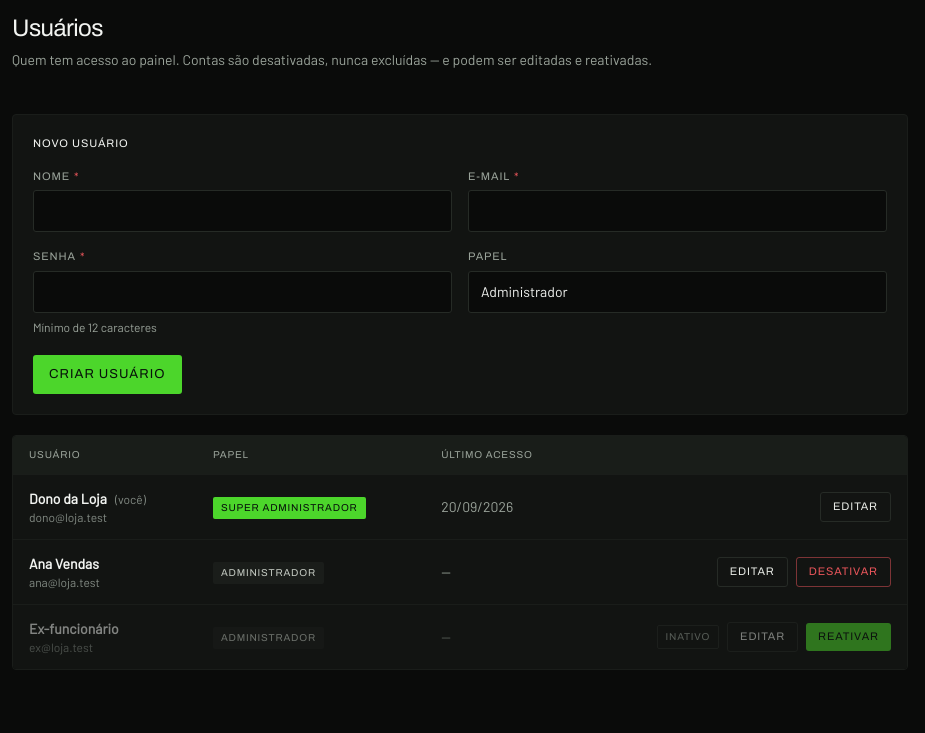
it: usuários › senha recusada pelo servidor: mostra a regra
The image size is (925, 733).
Check: the text "Dono da Loja" is shown, box [29,490,107,507]
Type "Bruno" into the field labelled "Nome*" at x=242, y=211, box [33,190,452,232]
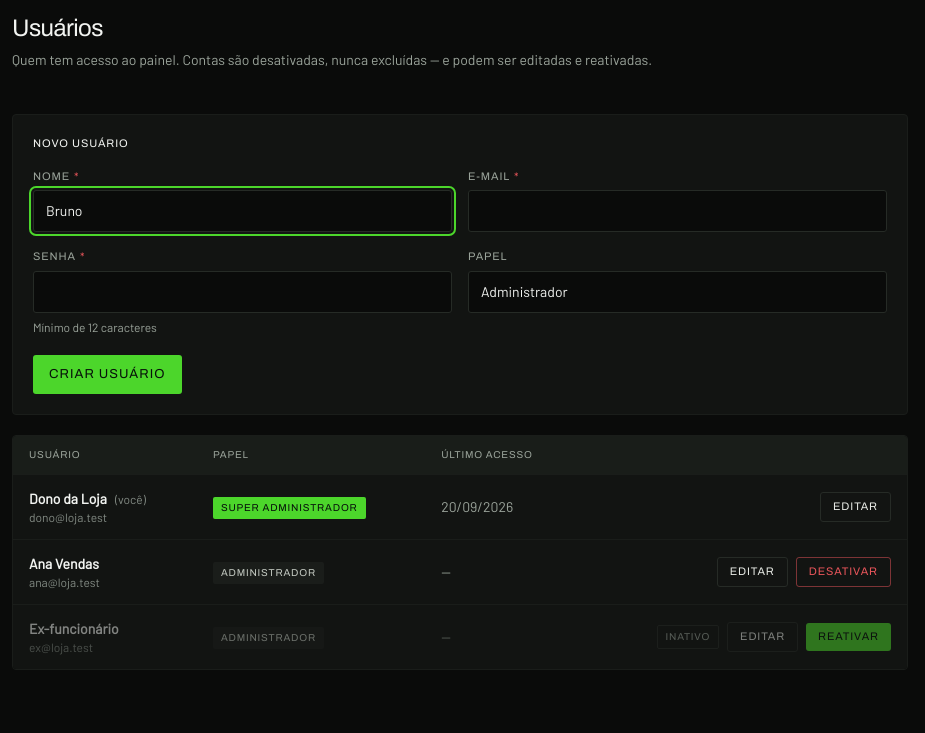
Click the button "Criar usuário" at x=107, y=374, box [33,354,182,394]
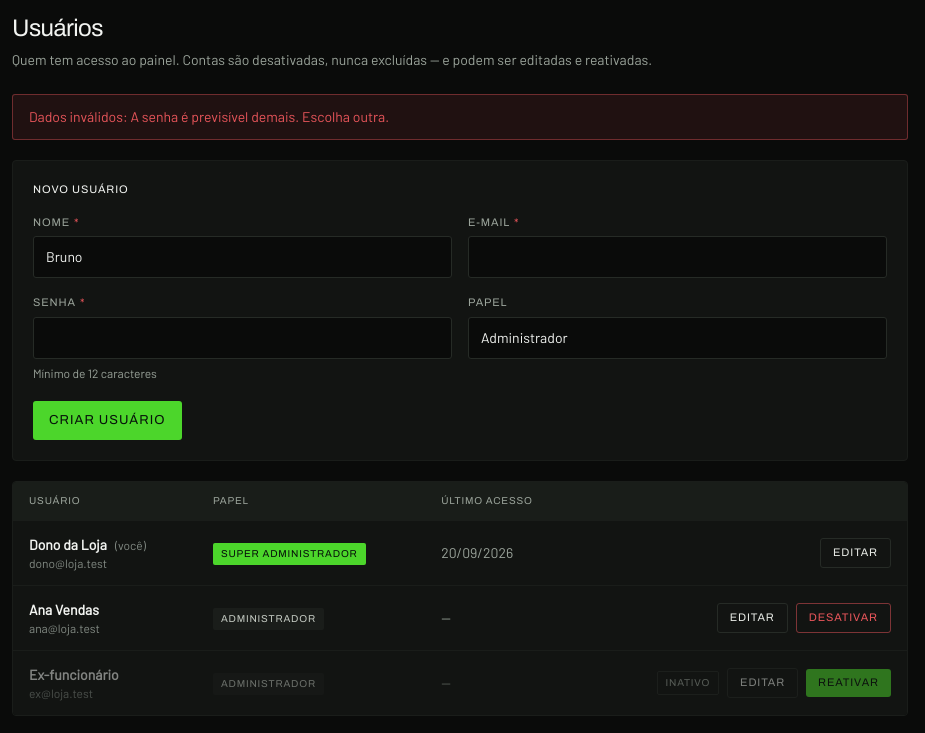
Check: the text "Dados inválidos: A senha é previsível demais. Escolha outra." is shown, box [12,94,908,140]
